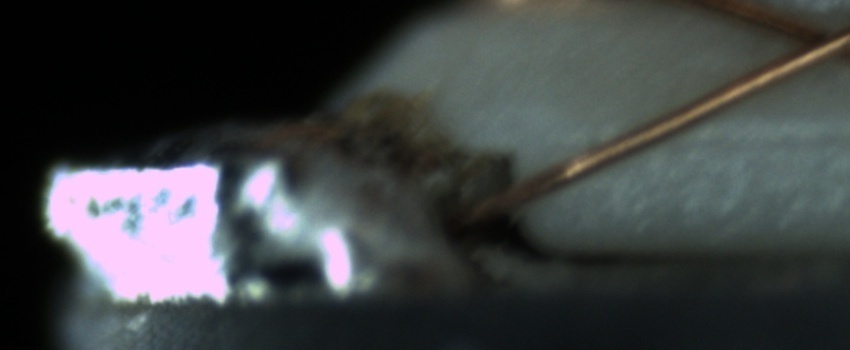CL: (763, 8, 850, 77)
DL: (672, 106, 849, 170)
